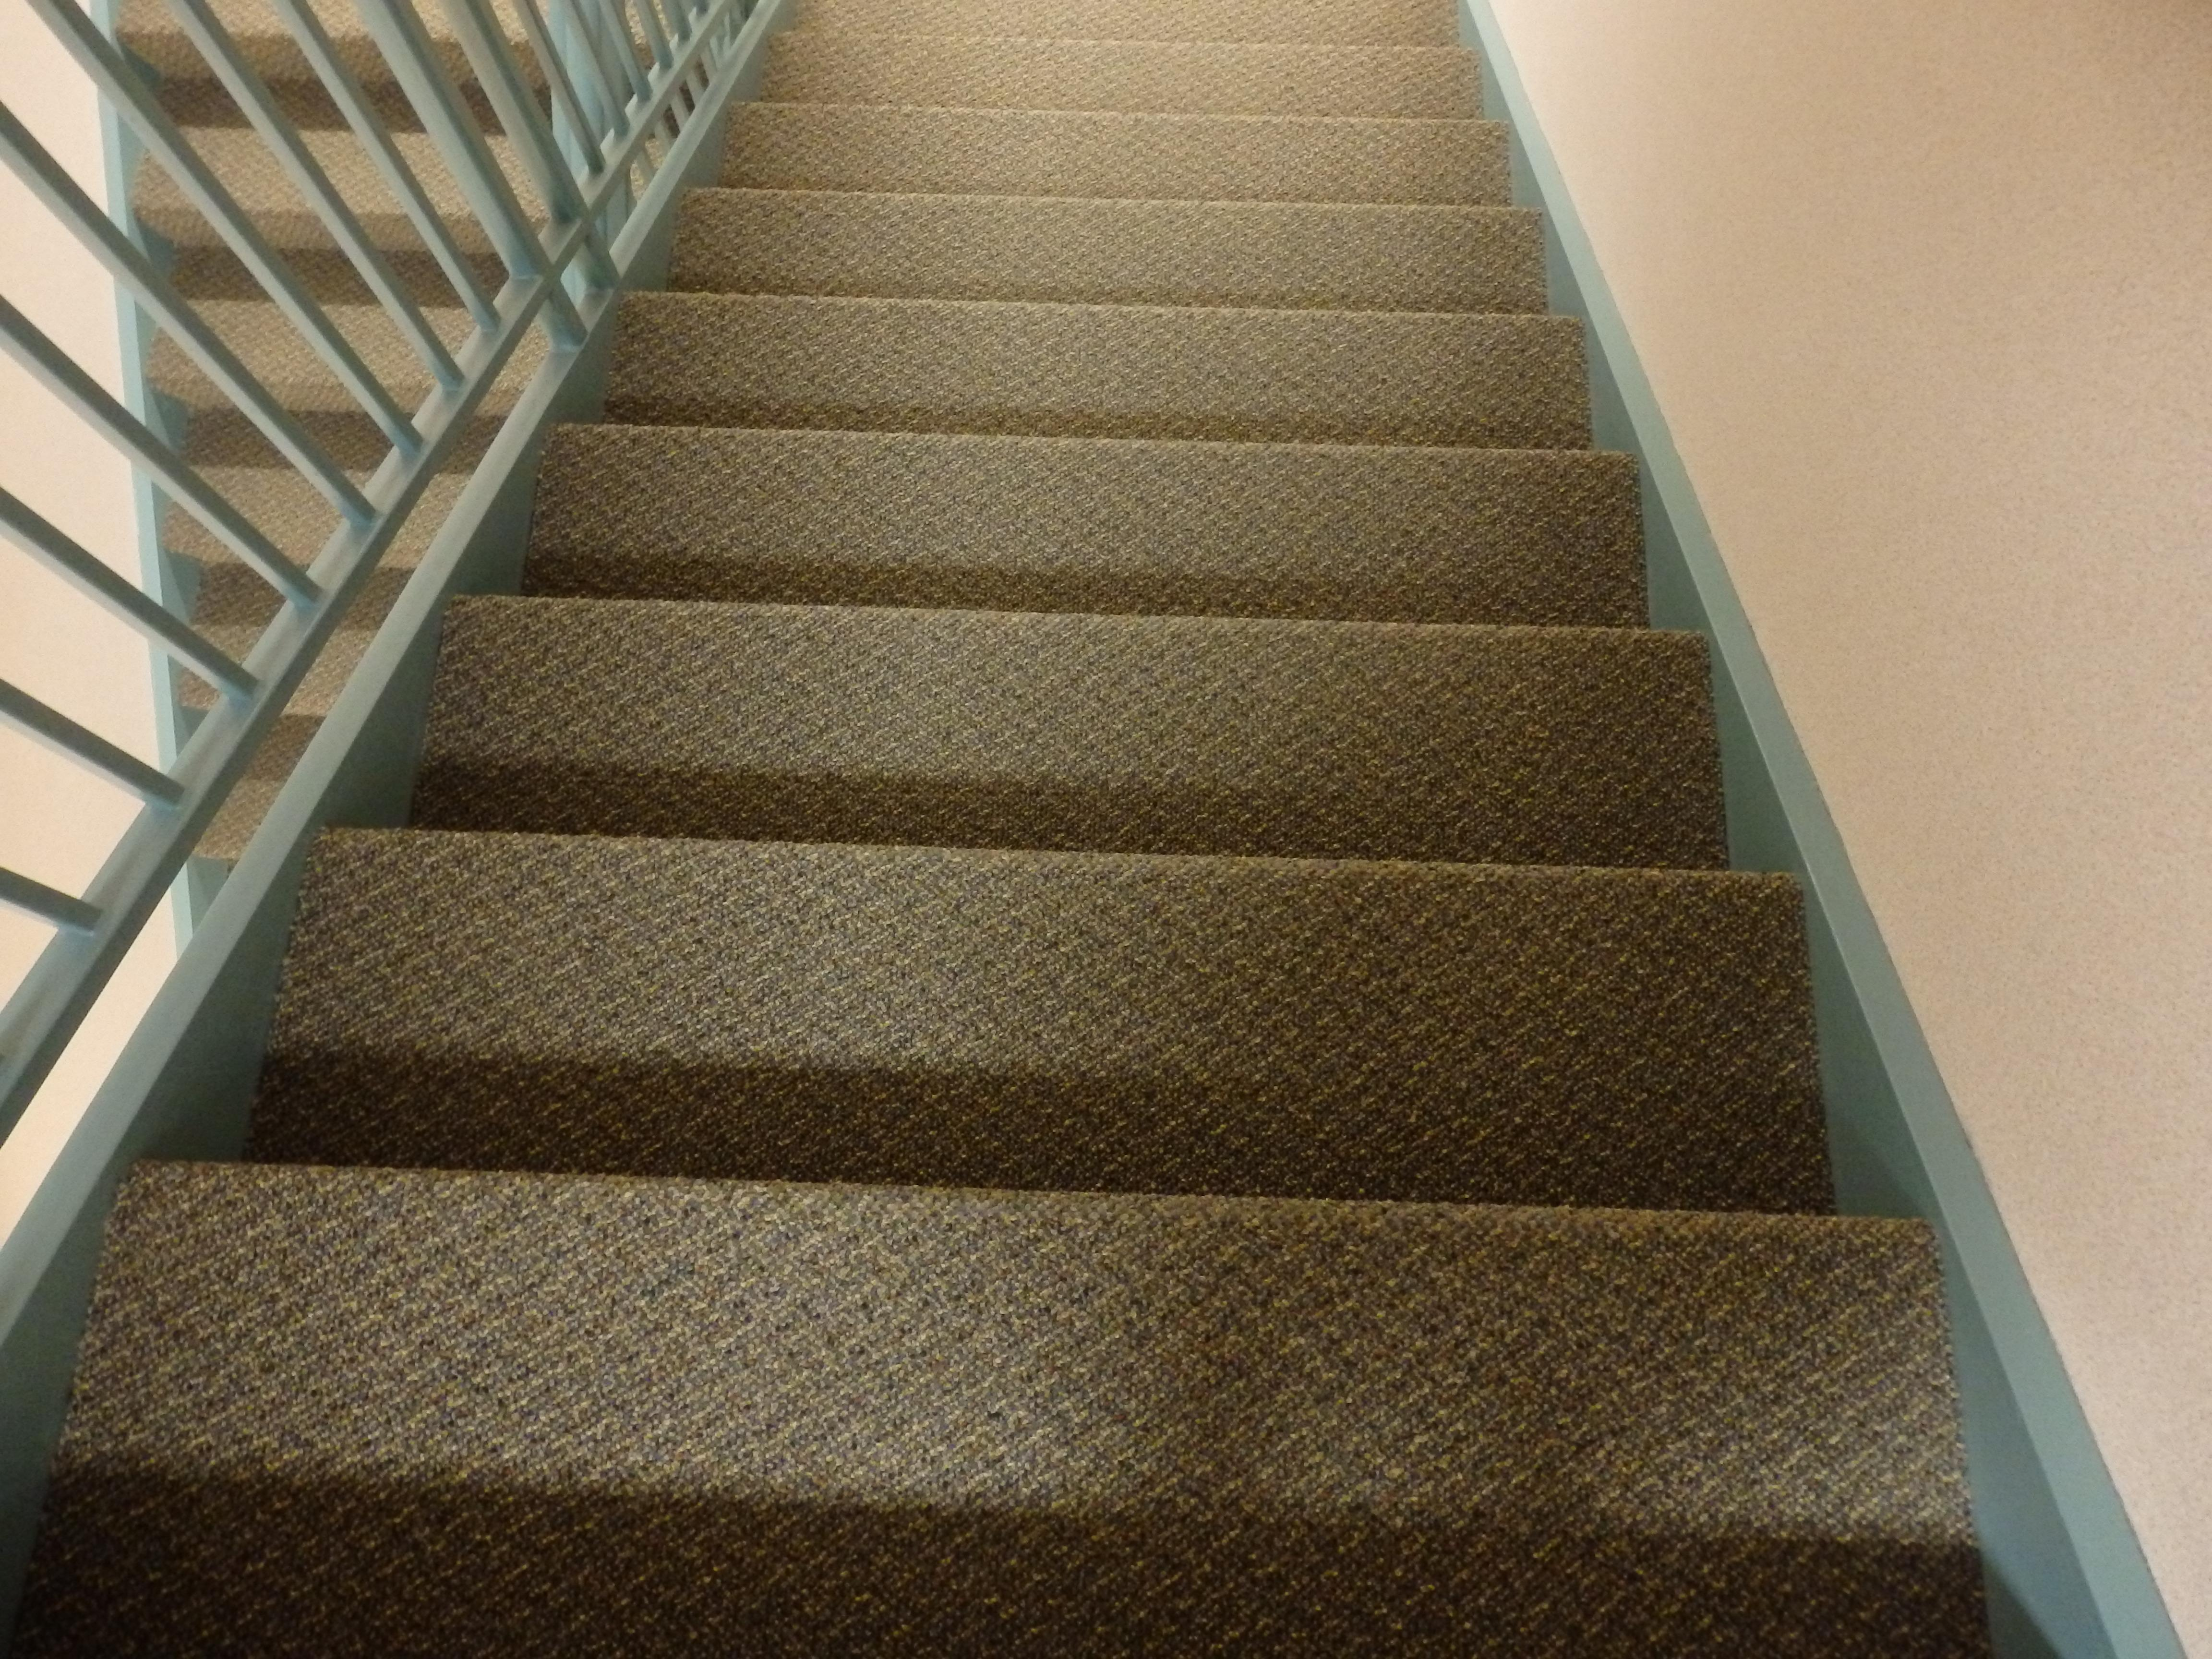stairs_down: (475, 0, 1663, 1582)
